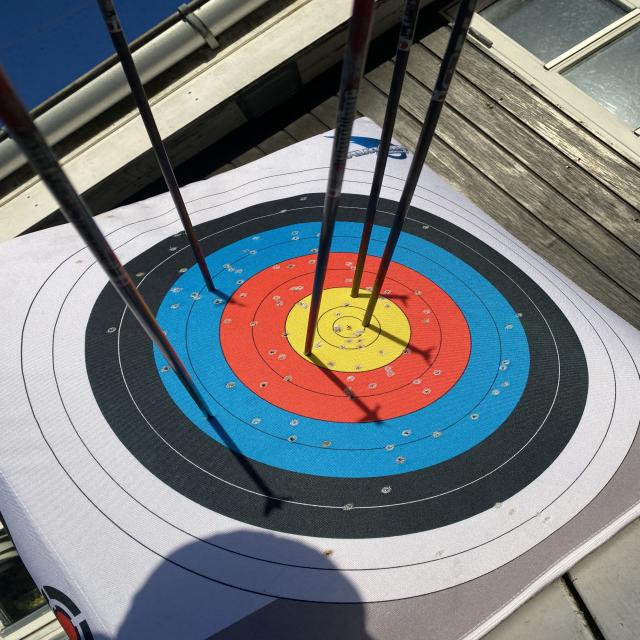Arrow_Blue: (150, 360, 243, 438), (182, 259, 231, 303)
Arrow_Yellow: (292, 334, 329, 368), (336, 274, 372, 305), (344, 312, 389, 336)
